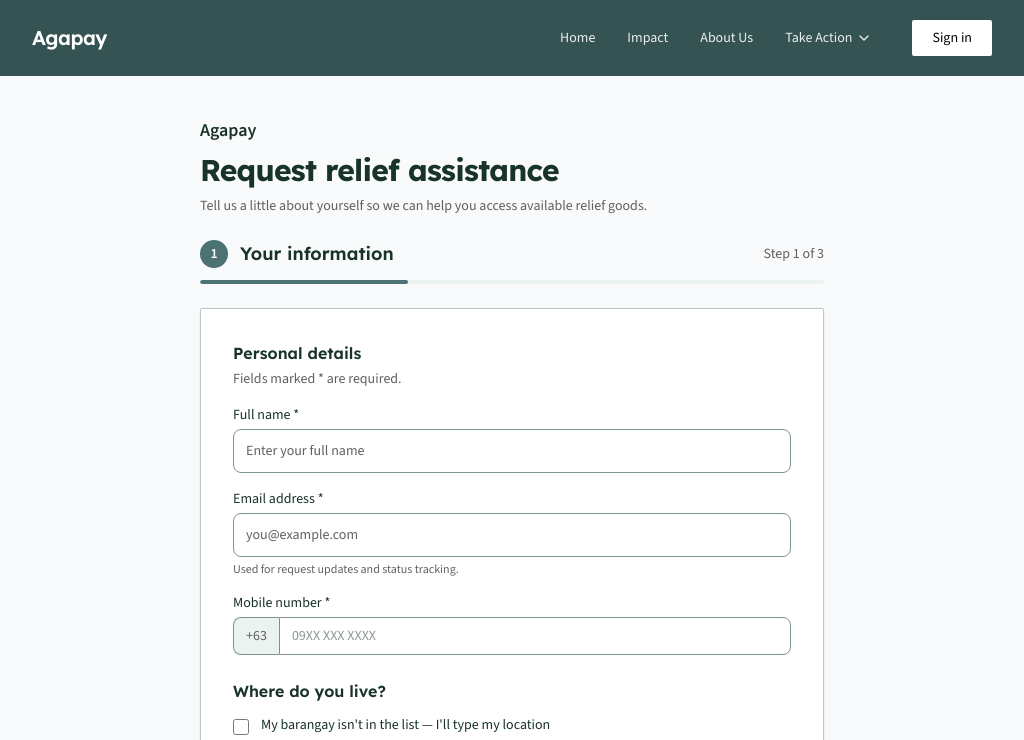
Test case: RequestAssistancePage › moves to assistance needs and keeps entries when going back
Type "Maria Santos" into the field labelled "Full name *" at (512, 451), box [233,429,791,473]
Type "maria@example.com" into the field labelled "Email address *" at (512, 535), box [233,513,791,557]
Type "9171234567" into the field labelled "Mobile number *" at (535, 636), box [279,617,791,655]
(page scrolled)
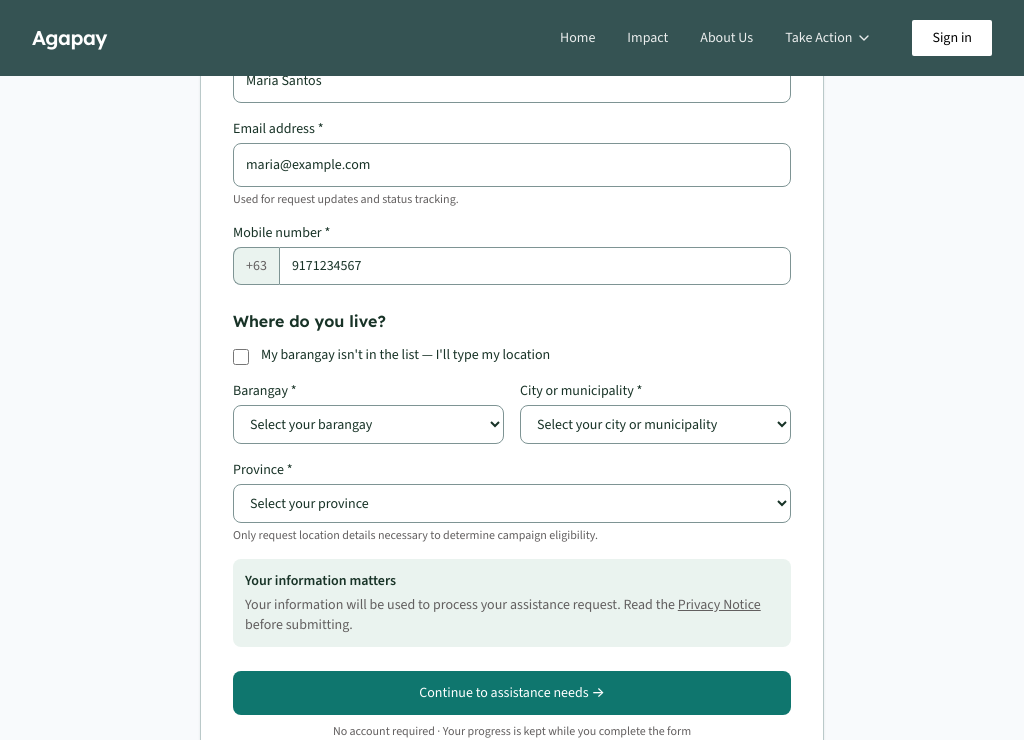
Select "San Isidro" in the dropdown labelled "Barangay *" at (368, 424), box [233,405,504,444]
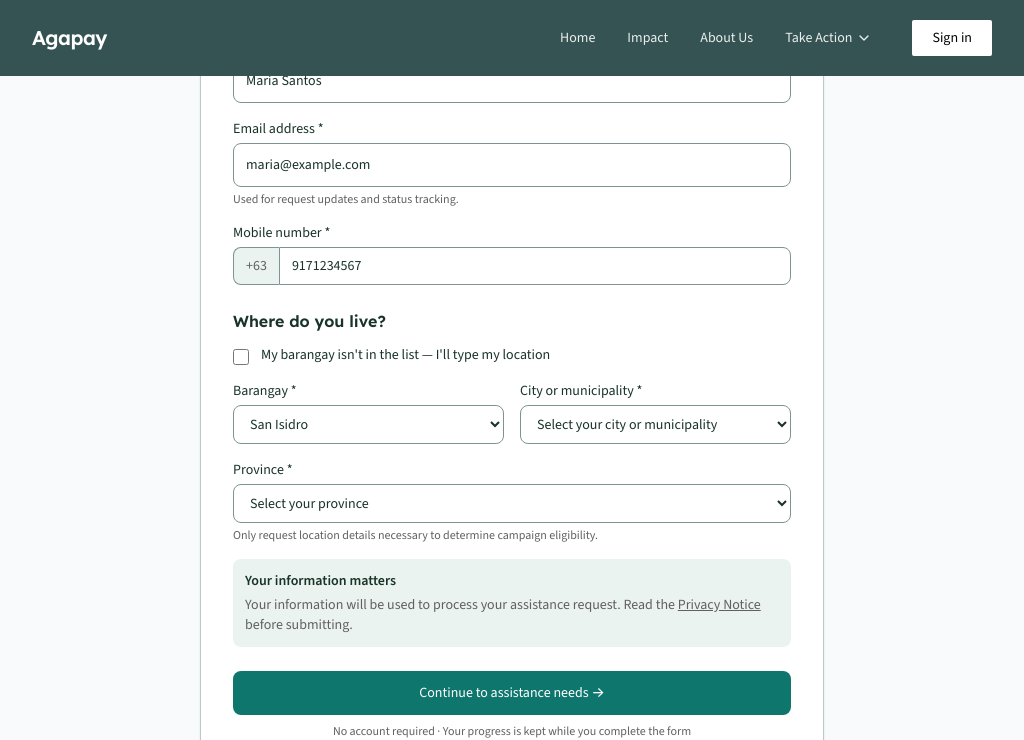
Select "Quezon City" in the dropdown labelled "City or municipality *" at (656, 424), box [520,405,791,444]
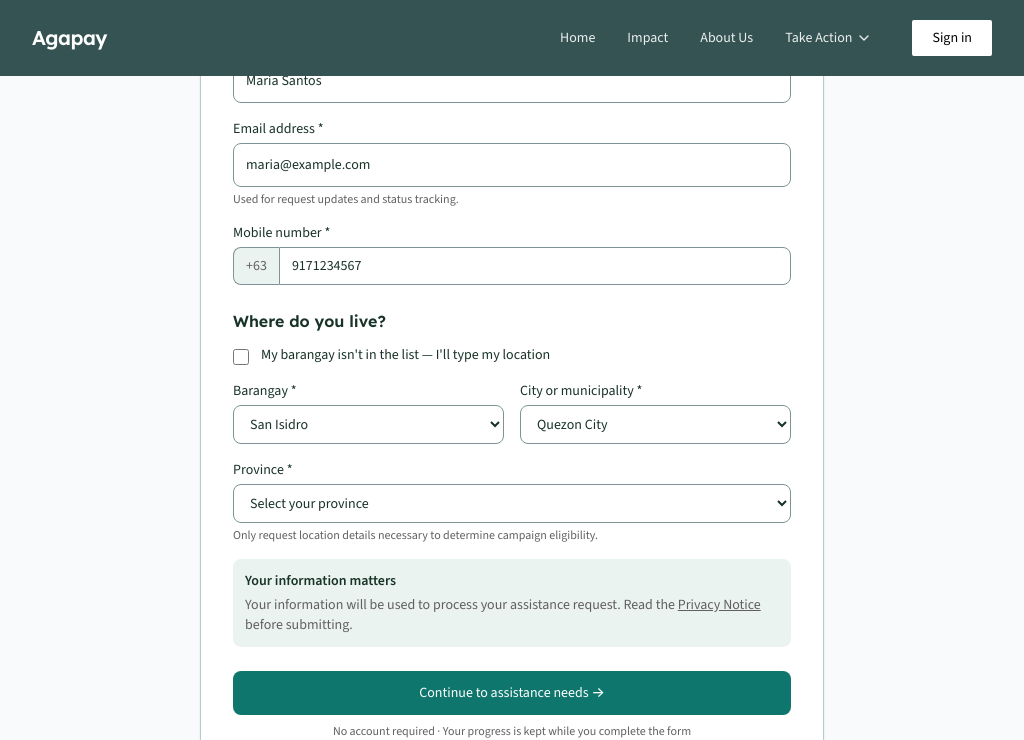
Select "Metro Manila" in the dropdown labelled "Province *" at (512, 504), box [233,484,791,523]
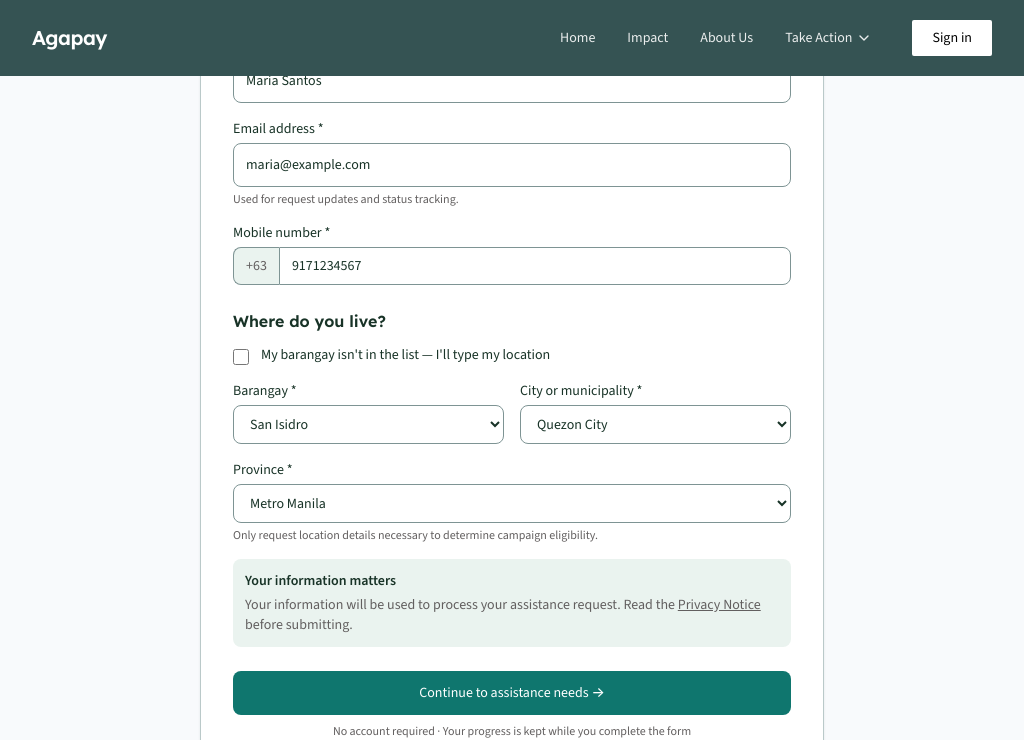
Click the button "Continue to assistance needs →" at (512, 693), box [233,671,791,715]
(page scrolled)
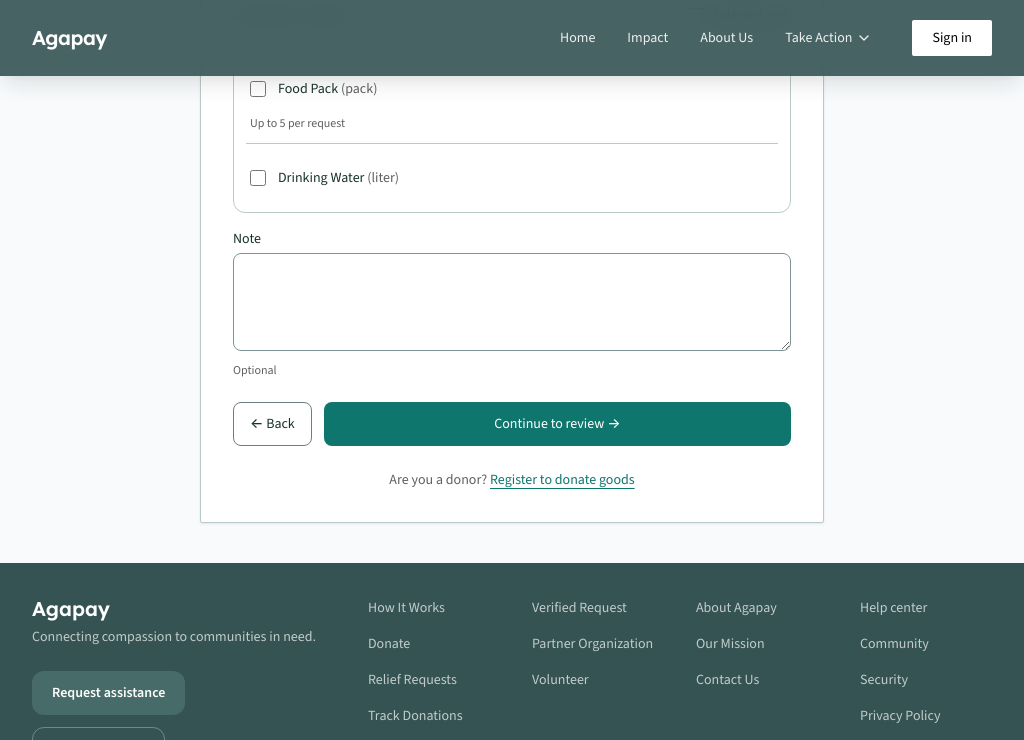
Click the button "← Back" at (272, 424), box [233,402,312,446]
(page scrolled)
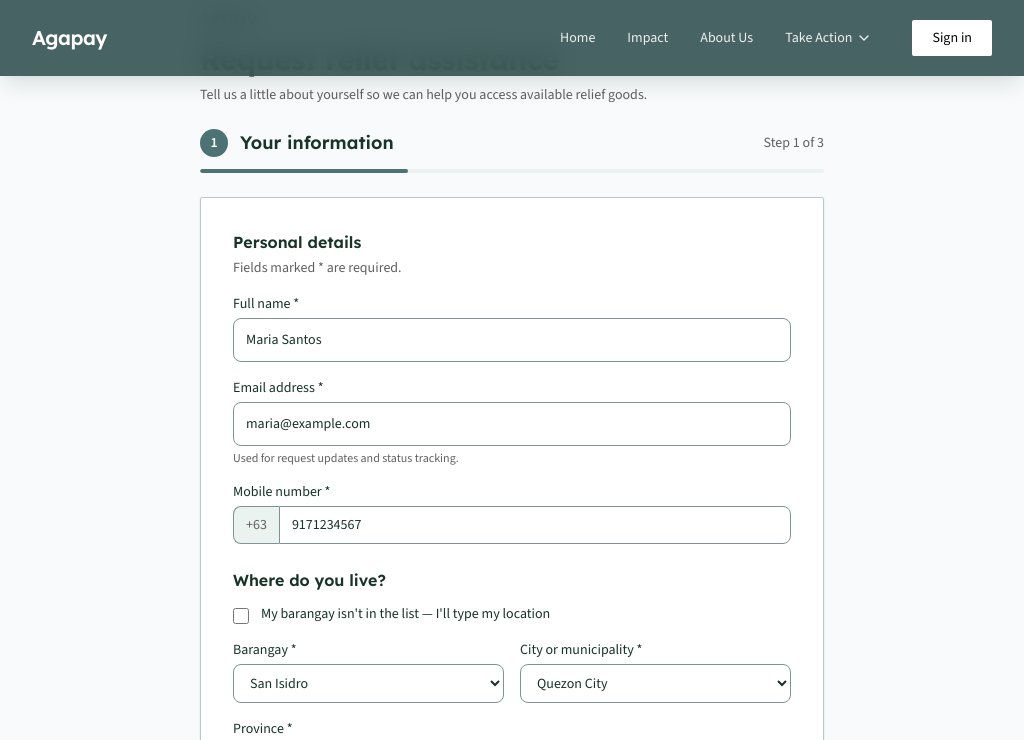
expect the field labelled "Full name *" holds "Maria Santos": met, box [233,318,791,362]
expect the field labelled "Email address *" holds "maria@example.com": met, box [233,402,791,446]
